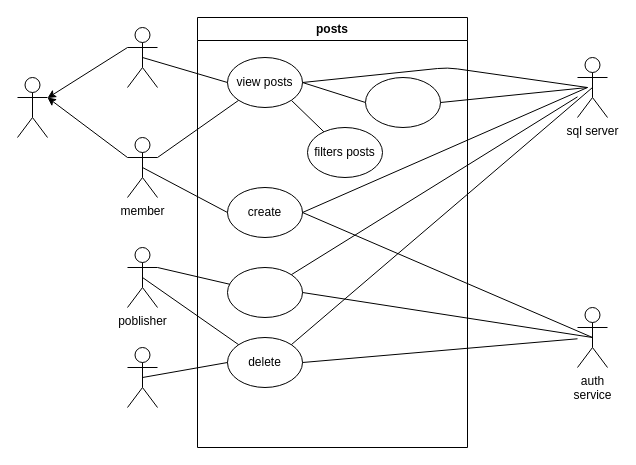
Some shapes in this 636 by 465 pixel diagram are drawn without their labels. Each missing label, with the centre of its shape:
"extends post" belongs at (402,102).
"guest" belongs at (142,57).
"manager" belongs at (142,377).
"update" belongs at (264,292).
"visitor" belongs at (32,107).
